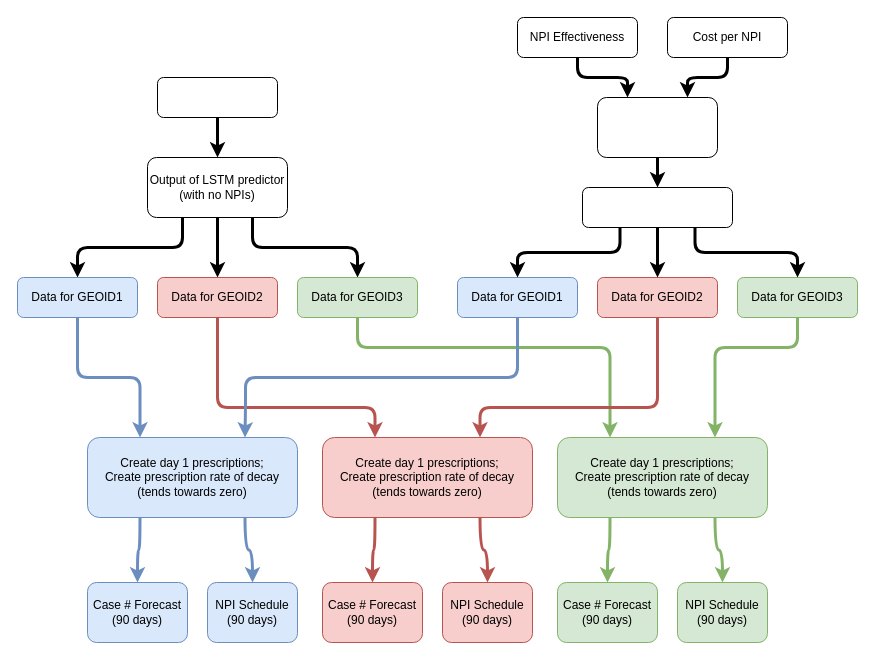
The diagram is 875 pixels wide and 660 high, and some of its shapes have lost their labels. The shapes that lost their labels are listed below. From the top down, each one's box as (x1, y1, x2, y2) in pixels, then its label:
(156, 76, 278, 118): Oxford Data
(596, 96, 718, 158): Custom index: Case # Impact/Cost
(582, 186, 732, 228): Select Stringency
